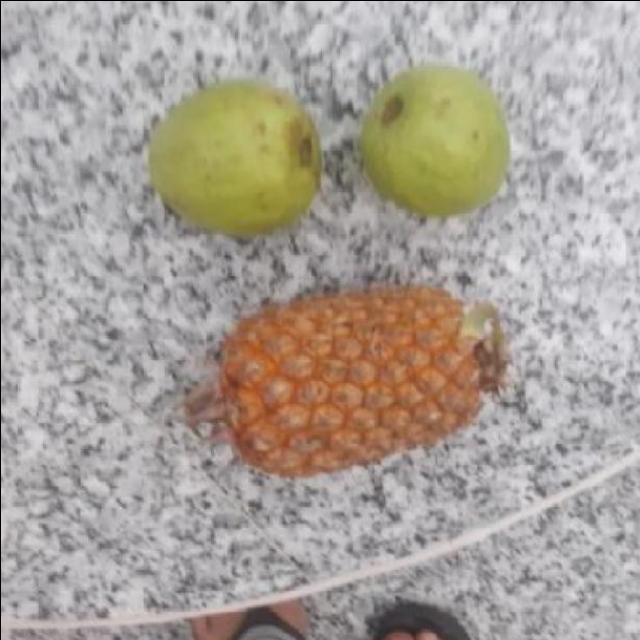guava: (146, 80, 326, 230), (356, 66, 514, 218)
pineapple: (210, 284, 527, 480)
